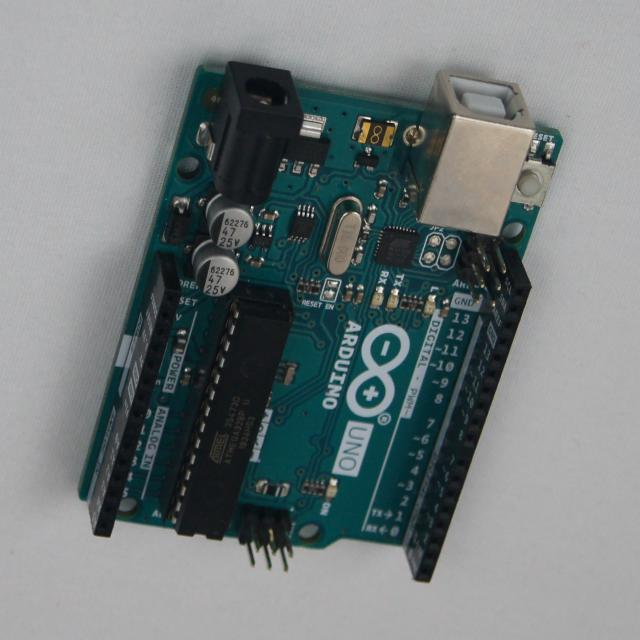Arduino Uno -Green-: (80, 63, 562, 582)
